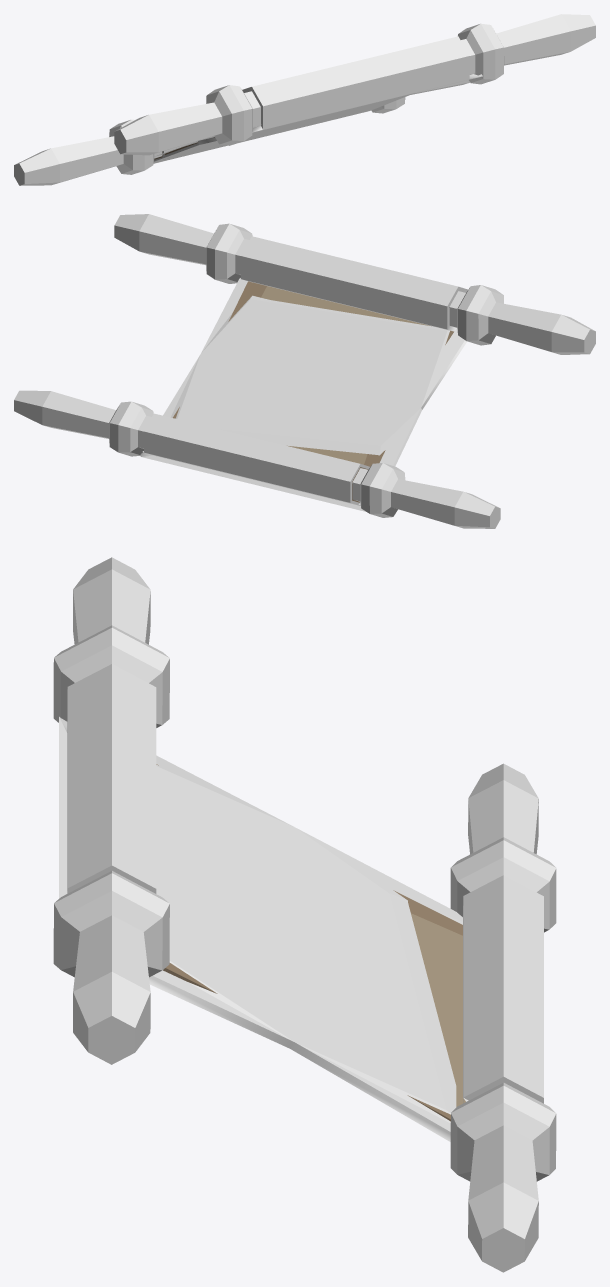
Rendered from papiro.glb.
The picture shows the model from 3 angles, top to bottom: view 1: azimuth 30°, elevation 25°; view 2: azimuth 150°, elevation 25°; view 3: azimuth 270°, elevation 25°; orthographic projection. The views are drawn at different scales.
Parts seen in each view (by area): view 1: SM_Item_Parchment_04.001; view 2: SM_Item_Parchment_04.001, SM_Item_Parchment_04; view 3: SM_Item_Parchment_04.001, SM_Item_Parchment_04.
Boxes of the visible parts, x1,y1,x2,y2 form: SM_Item_Parchment_04.001: (14, 14, 595, 185); SM_Item_Parchment_04.001: (14, 214, 595, 528); SM_Item_Parchment_04: (173, 281, 453, 502); SM_Item_Parchment_04.001: (53, 557, 556, 1272); SM_Item_Parchment_04: (156, 764, 465, 1121).
Bounding box in the file's own units: 0.9685 × 0.3141 × 0.4431.
2 materials, 1 textured.
